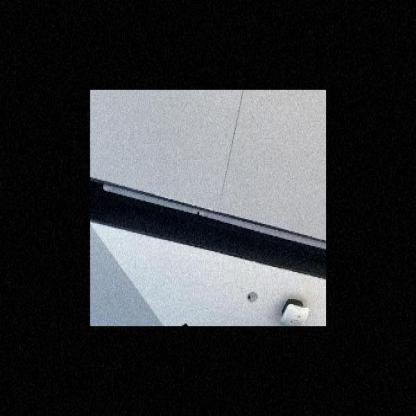light_off: (99, 166, 326, 267)
